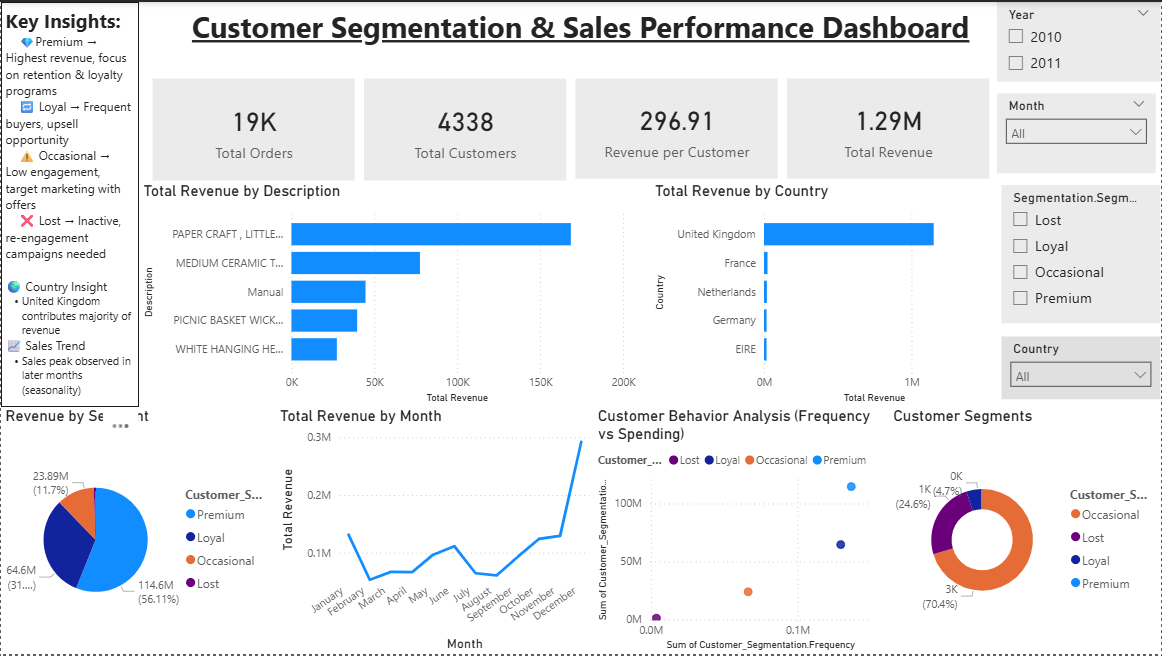

The dashboard page shown, as its layout file describes it:
{"tool":"powerbi","page":{"name":"Dashboard","canvas":[1280,720],"ordinal":3},"visuals":[{"type":"textbox","box":[0,0,1280.2,76.7],"z":0},{"type":"card","fields":{"Values":["OnlineRetail.Total Revenue"]},"box":[868,84.5,223.6,111],"z":1000},{"type":"card","fields":{"Values":["OnlineRetail.Total Orders"]},"box":[167.3,84.5,223.6,112.6],"z":2000},{"type":"card","fields":{"Values":["OnlineRetail.Total Customers"]},"box":[400.9,84.5,223.6,112.6],"z":3000},{"type":"slicer","fields":{"Values":["OnlineRetail.Country"]},"box":[1104.4,369.4,175.6,69.6],"z":4000},{"type":"slicer","fields":{"Values":["OnlineRetail.InvoiceDate.Variation.Date Hierarchy.Month"]},"box":[1099.9,101,175.6,87.8],"z":5000},{"type":"barChart","fields":{"Category":["OnlineRetail.Country"],"Y":["OnlineRetail.Total Revenue"]},"box":[716.7,198.3,383.3,248.3],"z":6000},{"type":"lineChart","fields":{"Category":["OnlineRetail.InvoiceDate.Variation.Date Hierarchy.Month"],"Y":["OnlineRetail.Total Revenue"]},"box":[303.3,446.7,351.7,273.3],"z":7000},{"type":"barChart","fields":{"Category":["OnlineRetail.Description"],"Y":["OnlineRetail.Total Revenue"]},"box":[151.7,198.3,553.3,248.3],"z":8000},{"type":"donutChart","title":"Customer Segments","fields":{"Category":["OnlineRetail.Customer_Segmentation.Segment"],"Y":["OnlineRetail.Total Customers"]},"box":[980,446.7,300,273.3],"z":9000},{"type":"pieChart","title":"Revenue by Segment","fields":{"Category":["OnlineRetail.Customer_Segmentation.Segment"],"Y":["Sum(OnlineRetail.Customer_Segmentation.Monetary)"]},"box":[0,446.7,303.3,273.3],"z":10000},{"type":"scatterChart","title":"Customer Behavior Analysis (Frequency vs Spending)","fields":{"X":["Sum(OnlineRetail.Customer_Segmentation.Frequency)"],"Y":["Sum(OnlineRetail.Customer_Segmentation.Monetary)"],"Series":["OnlineRetail.Customer_Segmentation.Segment"]},"box":[655,446.7,325,273.3],"z":11000},{"type":"textbox","box":[0,0,151.7,446.7],"z":12000},{"type":"slicer","fields":{"Values":["OnlineRetail.Customer_Segmentation.Segment"]},"box":[1104.4,202.1,175.6,152.4],"z":13000},{"type":"slicer","fields":{"Values":["OnlineRetail.InvoiceDate.Variation.Date Hierarchy.Year"]},"box":[1099.9,0,180.6,87.8],"z":14000},{"type":"card","fields":{"Values":["Customer_Segmentation.Revenue per Customer"]},"box":[634.4,84.5,223.6,111],"z":15000}]}

Visuals, with their boxes in screenshot pixels (x1, y1, x2, y2), scaled from the page's 1280x720 canvas onto the 1162x656 screenshot:
textbox: bbox=(0, 0, 1161, 70)
card - OnlineRetail.Total Revenue: bbox=(788, 77, 991, 178)
card - OnlineRetail.Total Orders: bbox=(152, 77, 355, 180)
card - OnlineRetail.Total Customers: bbox=(364, 77, 567, 180)
slicer - OnlineRetail.Country: bbox=(1003, 337, 1161, 400)
slicer - OnlineRetail.InvoiceDate.Variation.Date Hierarchy.Month: bbox=(999, 92, 1158, 172)
barChart - OnlineRetail.Country x OnlineRetail.Total Revenue: bbox=(651, 181, 999, 407)
lineChart - OnlineRetail.InvoiceDate.Variation.Date Hierarchy.Month x OnlineRetail.Total Revenue: bbox=(275, 407, 595, 655)
barChart - OnlineRetail.Description x OnlineRetail.Total Revenue: bbox=(138, 181, 640, 407)
"Customer Segments" donutChart: bbox=(890, 407, 1161, 655)
"Revenue by Segment" pieChart: bbox=(0, 407, 275, 655)
"Customer Behavior Analysis (Frequency vs Spending)" scatterChart: bbox=(595, 407, 890, 655)
textbox: bbox=(0, 0, 138, 407)
slicer - OnlineRetail.Customer_Segmentation.Segment: bbox=(1003, 184, 1161, 323)
slicer - OnlineRetail.InvoiceDate.Variation.Date Hierarchy.Year: bbox=(999, 0, 1161, 80)
card - Customer_Segmentation.Revenue per Customer: bbox=(576, 77, 779, 178)
